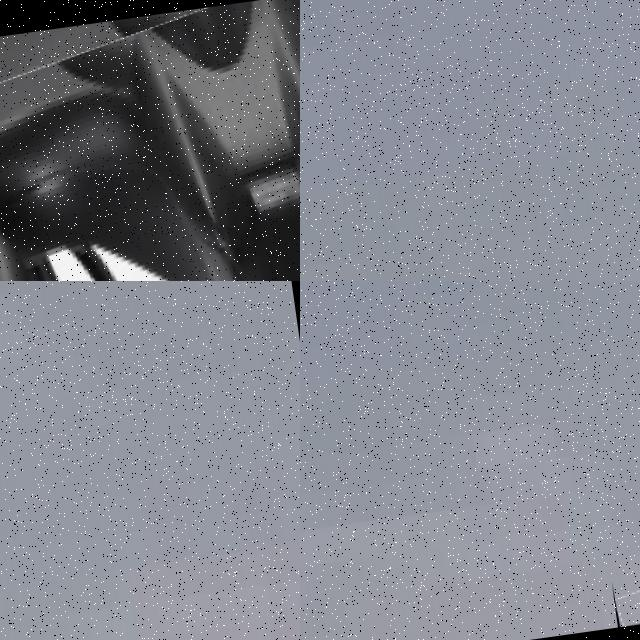0: (611, 561, 640, 627)
drone: (0, 0, 300, 281)
